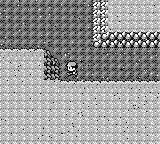captura: (1, 0, 160, 144)
main: (65, 61, 78, 76)
no-caminable: (94, 1, 159, 47), (59, 78, 160, 86), (44, 51, 59, 80), (0, 46, 45, 55)
